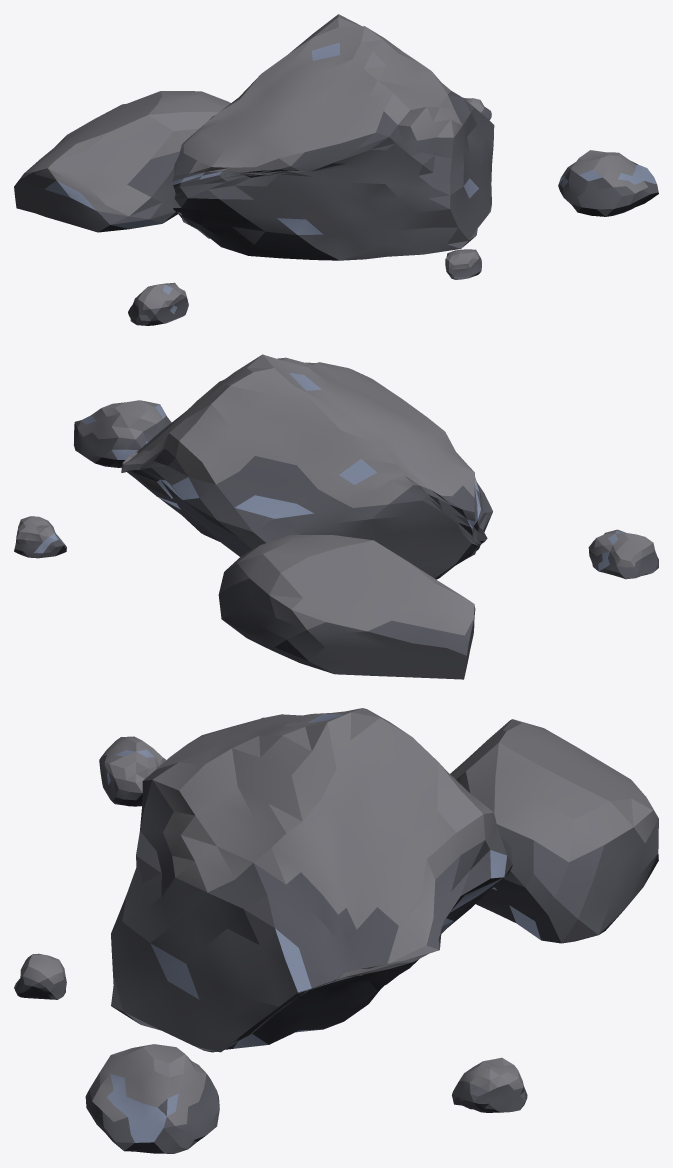
Rendered from rock_moon_c.glb.
3 renders of one model, top to bottom at view 1: azimuth 30°, elevation 25°; view 2: azimuth 150°, elevation 25°; view 3: azimuth 270°, elevation 25°, orthographic. The views are drawn at different scales.
Visible parts, largest first — view 1: rock_moon_c; view 2: rock_moon_c; view 3: rock_moon_c.
Part boxes in pixels (box(x1,y1,x2,y2)): rock_moon_c: box(14, 14, 658, 325); rock_moon_c: box(14, 354, 658, 679); rock_moon_c: box(14, 708, 658, 1153).
Bounding box in the file's own units: 4.44 × 1.41 × 3.1.
